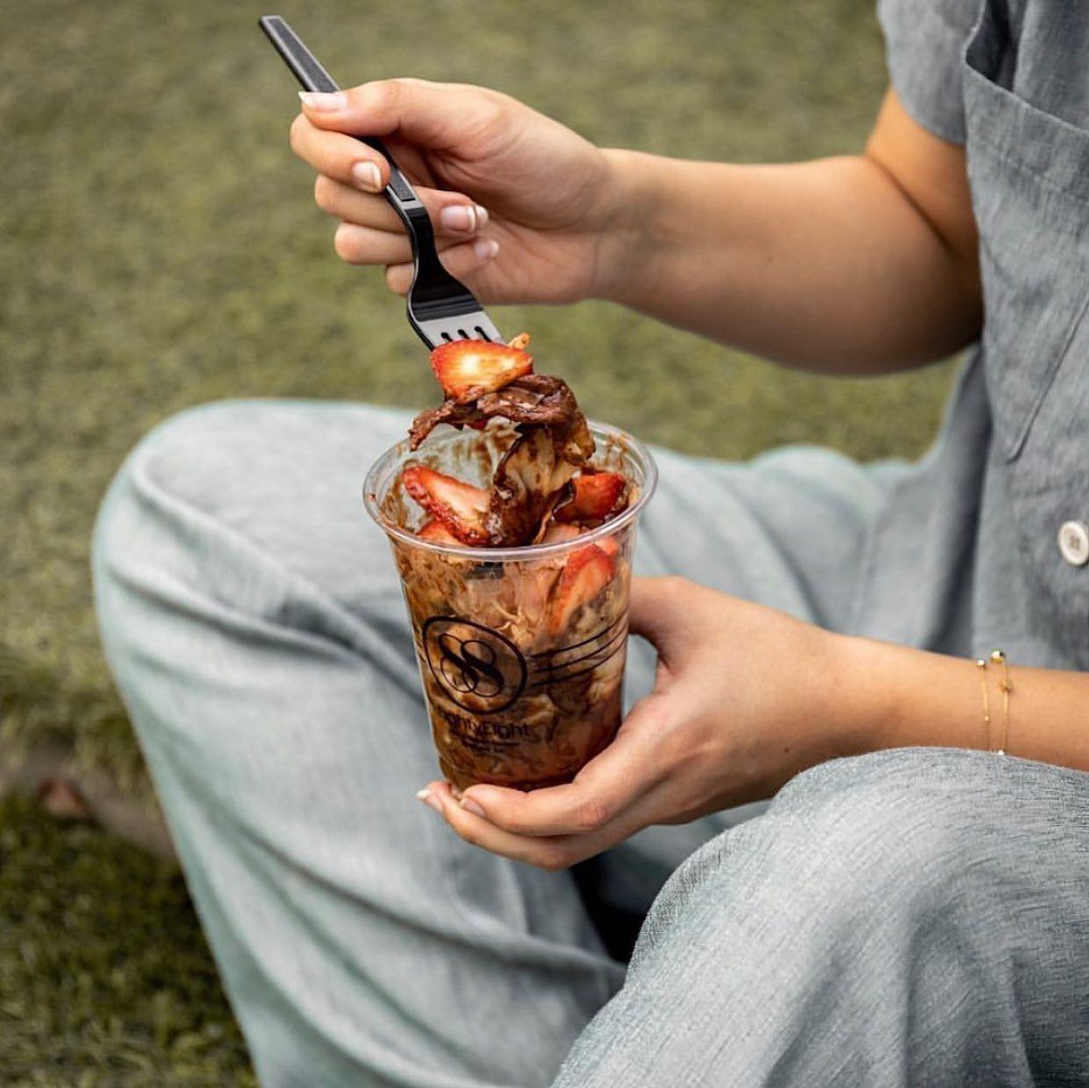cup-disposable: (368, 402, 663, 815)
